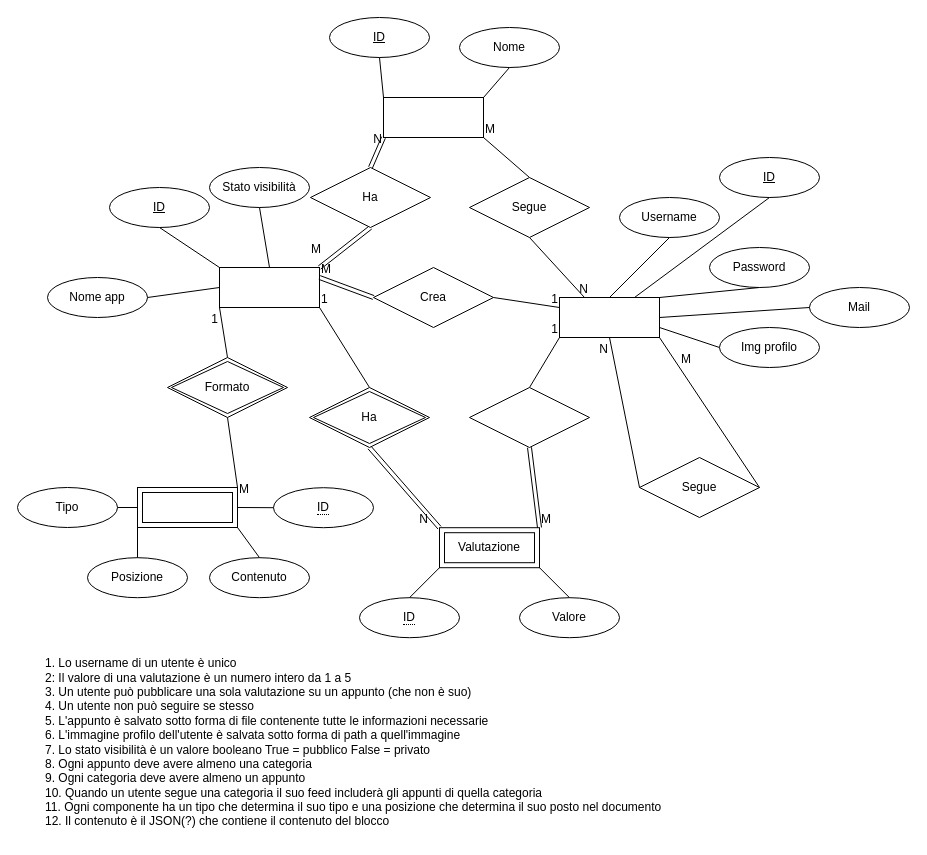
Image size: 927x855. Some labels were removed from this diagram. The centre of each missing label's shape, as x and y in pixels:
Appunto: (x=269, y=287)
Categoria: (x=433, y=117)
Componente: (x=187, y=507)
Pubblica: (x=529, y=417)
Utente: (x=609, y=317)
